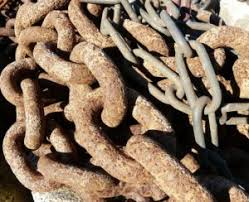rust: (2, 5, 121, 192), (103, 130, 217, 200), (31, 147, 131, 194), (102, 90, 175, 139), (4, 56, 93, 83), (120, 24, 168, 54), (199, 24, 247, 53), (23, 26, 66, 44)
